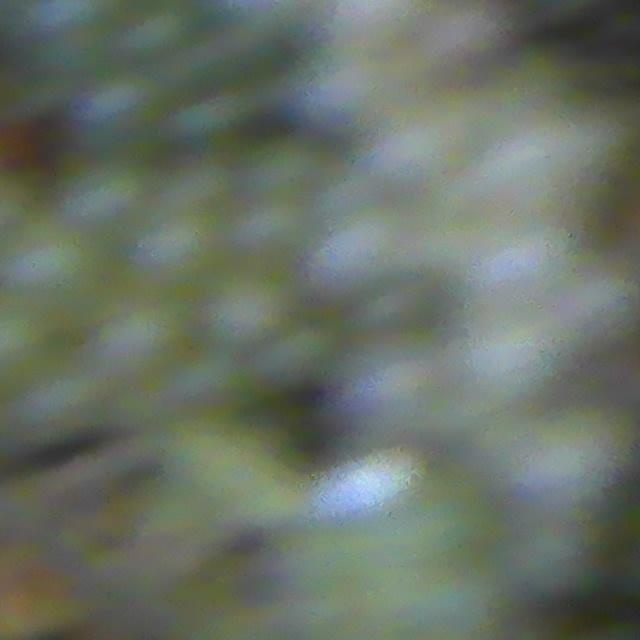SeaGrape: (3, 219, 97, 304), (13, 359, 104, 444), (207, 266, 290, 345), (97, 297, 181, 374), (132, 209, 213, 285), (64, 156, 147, 230)
